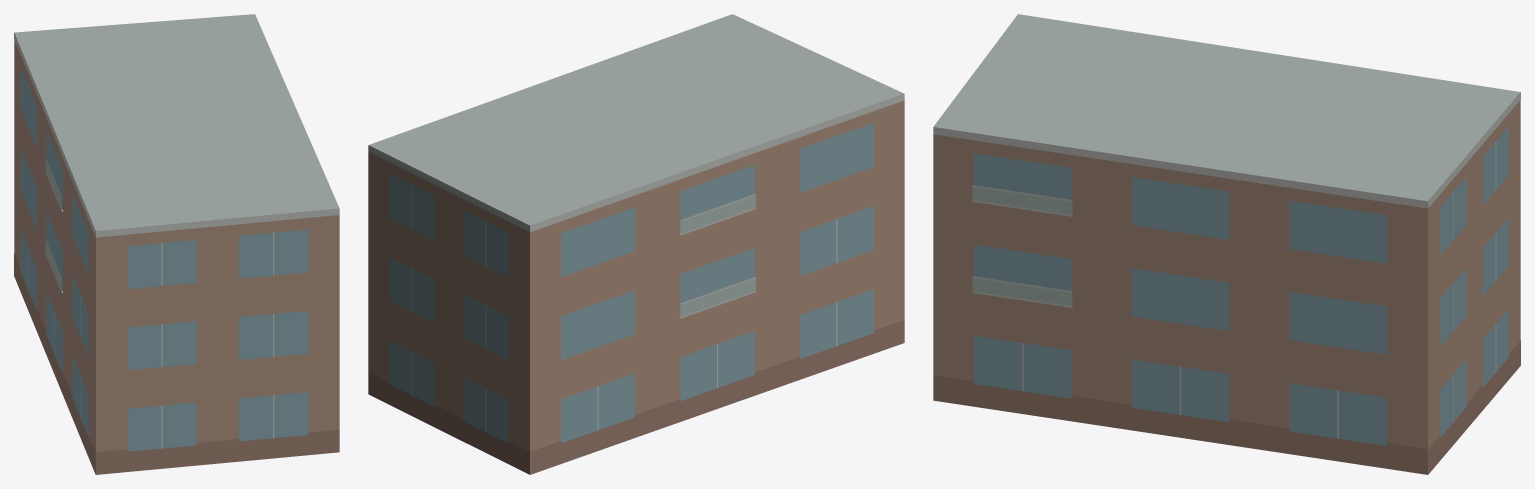
The model's file is survey-upis-32893044.glb.
3 views of the same model, side by side, from view 1: azimuth 30°, elevation 25°; view 2: azimuth 150°, elevation 25°; view 3: azimuth 270°, elevation 25° (orthographic). The views are drawn at different scales.
Visible parts, largest first — view 1: survey-upis-32893044.tmp; view 2: survey-upis-32893044.tmp; view 3: survey-upis-32893044.tmp.
Part boxes in pixels (<box>): survey-upis-32893044.tmp: <box>14,14,339,474</box>; survey-upis-32893044.tmp: <box>368,14,904,474</box>; survey-upis-32893044.tmp: <box>933,14,1520,474</box>.
Bounding box in the file's own units: 13.44 × 9.15 × 17.82.
